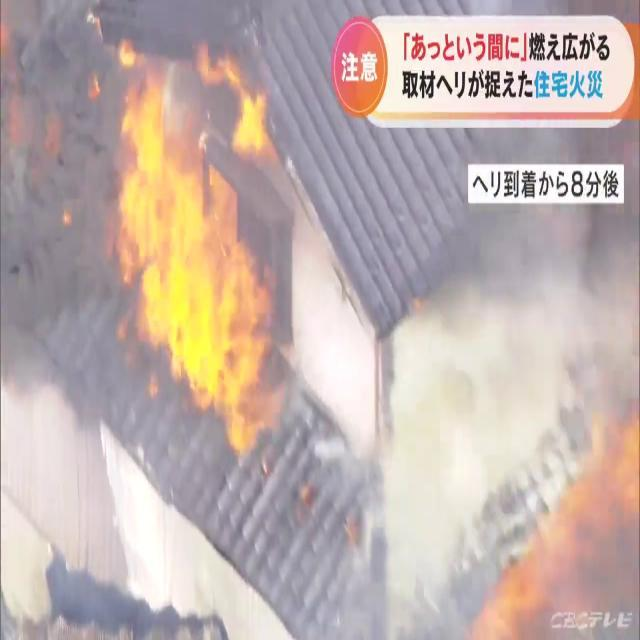Fire: (73, 22, 288, 454)
Smoke: (358, 208, 638, 594)
